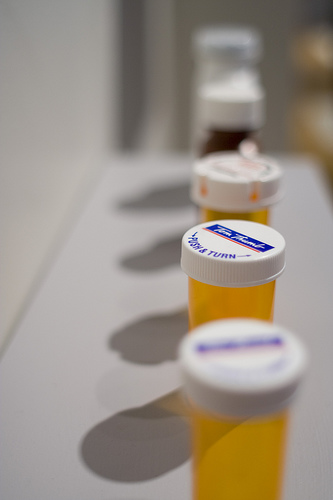pill bottle: (176, 315, 308, 500), (180, 218, 286, 330)
